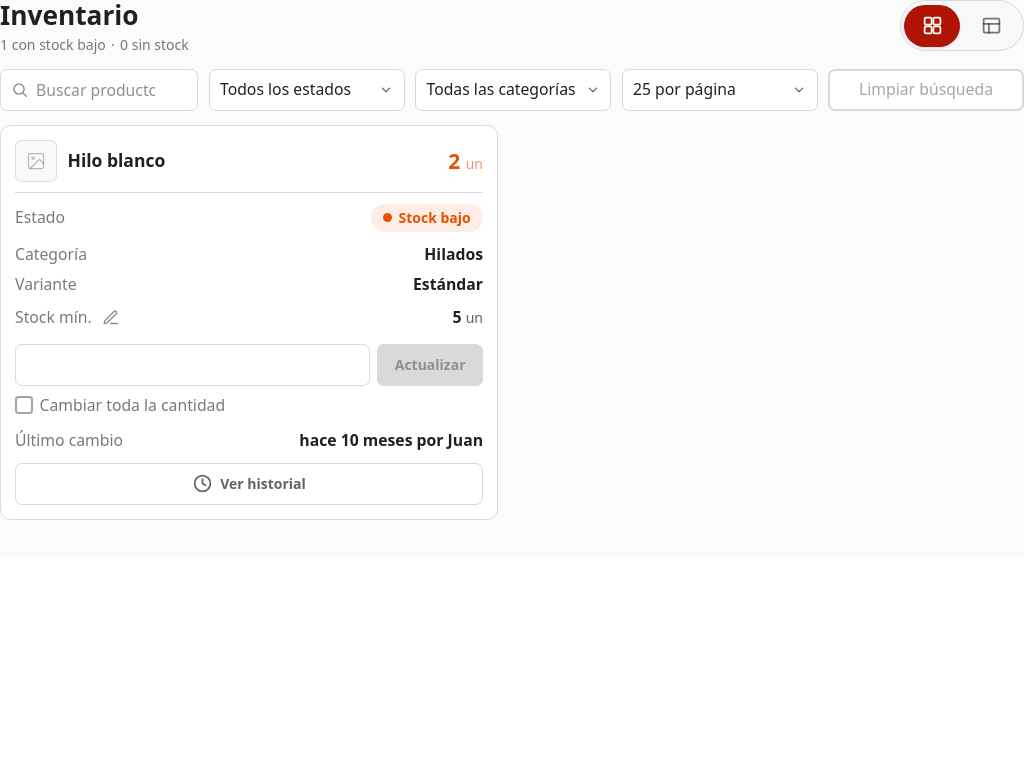
Test case: InventoryPage › subtracts a negative amount typed with the minus sign
Type "-1" into the field named "Cuánto sumar o restar a Hilo blanco".
click(193, 365); type("-1")  # box [15, 344, 370, 386]
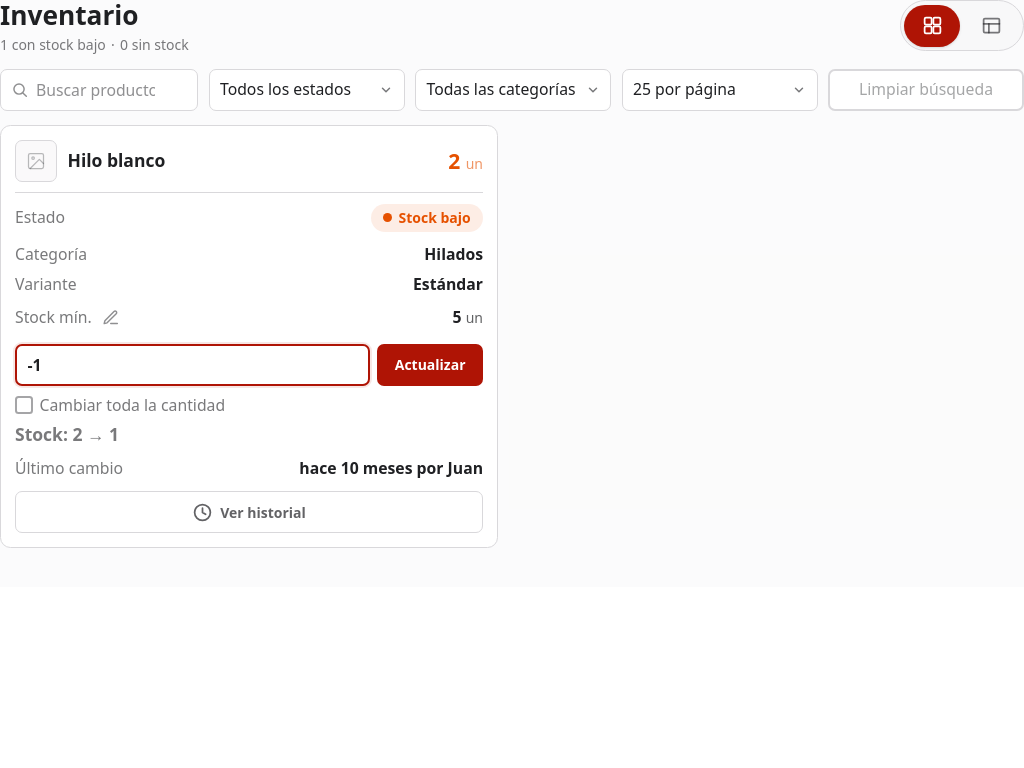
Expected: the text with test id "delta-preview" reads "Stock: 2 → 1", [15, 422, 119, 446]
Click the button "Actualizar".
click(430, 365)  # box [377, 344, 483, 386]
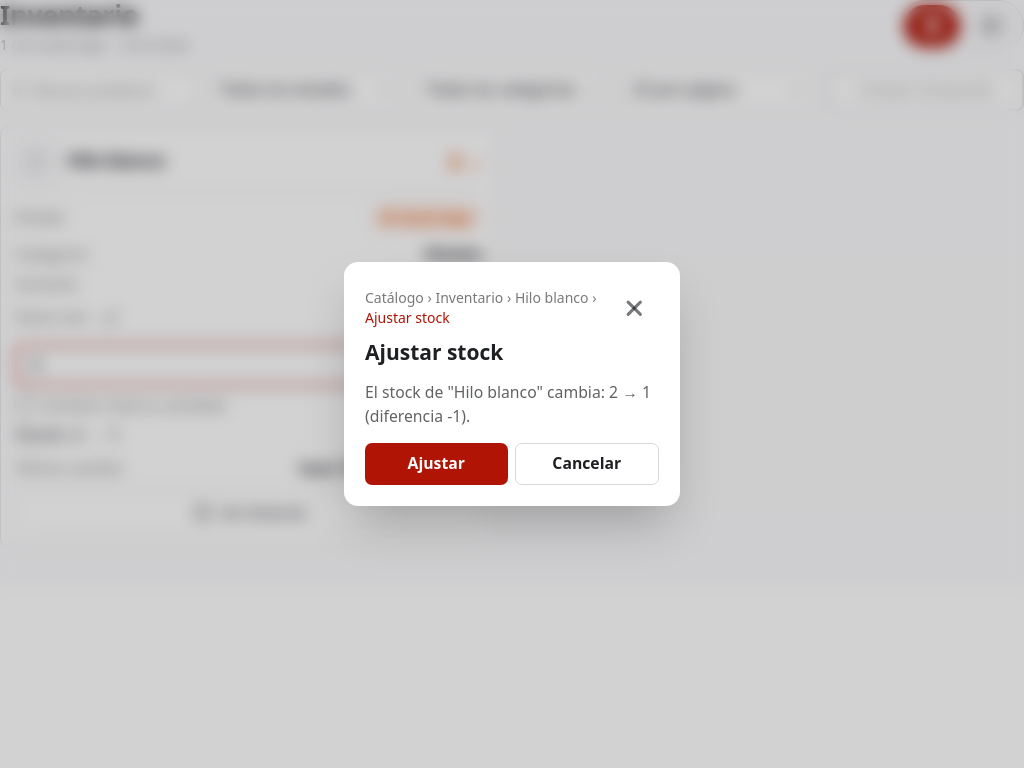
Expected: the dialog shows "2 → 1 (diferencia -1)", [365, 381, 651, 427]
Click the button "Ajustar".
click(436, 464)  # box [365, 443, 508, 485]
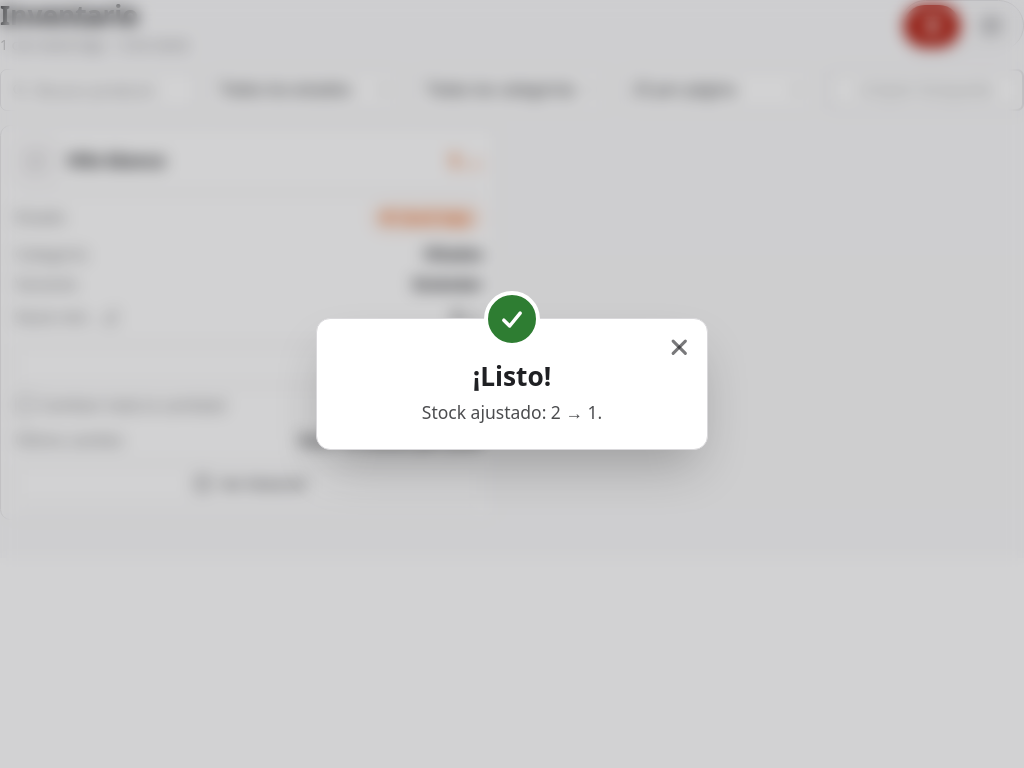
Expected: the dialog is gone
